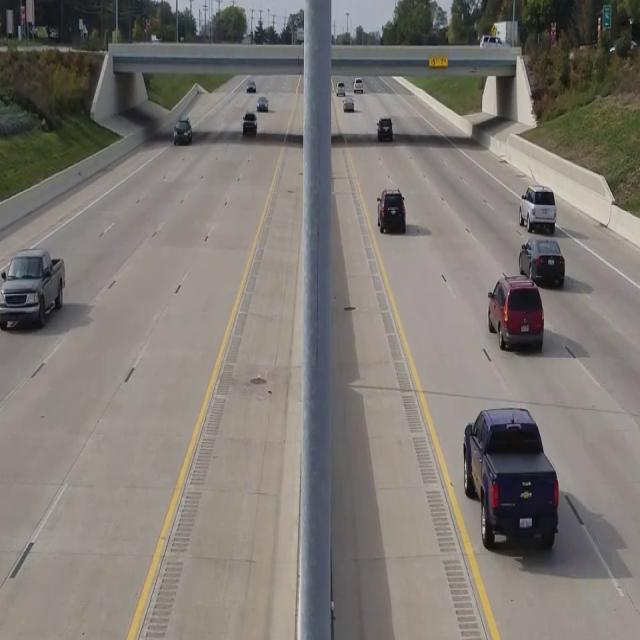car: (463, 405, 559, 550), (0, 248, 65, 330), (487, 271, 544, 351), (518, 236, 564, 288), (518, 185, 556, 233), (377, 188, 405, 234), (172, 116, 192, 145), (377, 117, 392, 141), (242, 110, 256, 134)
